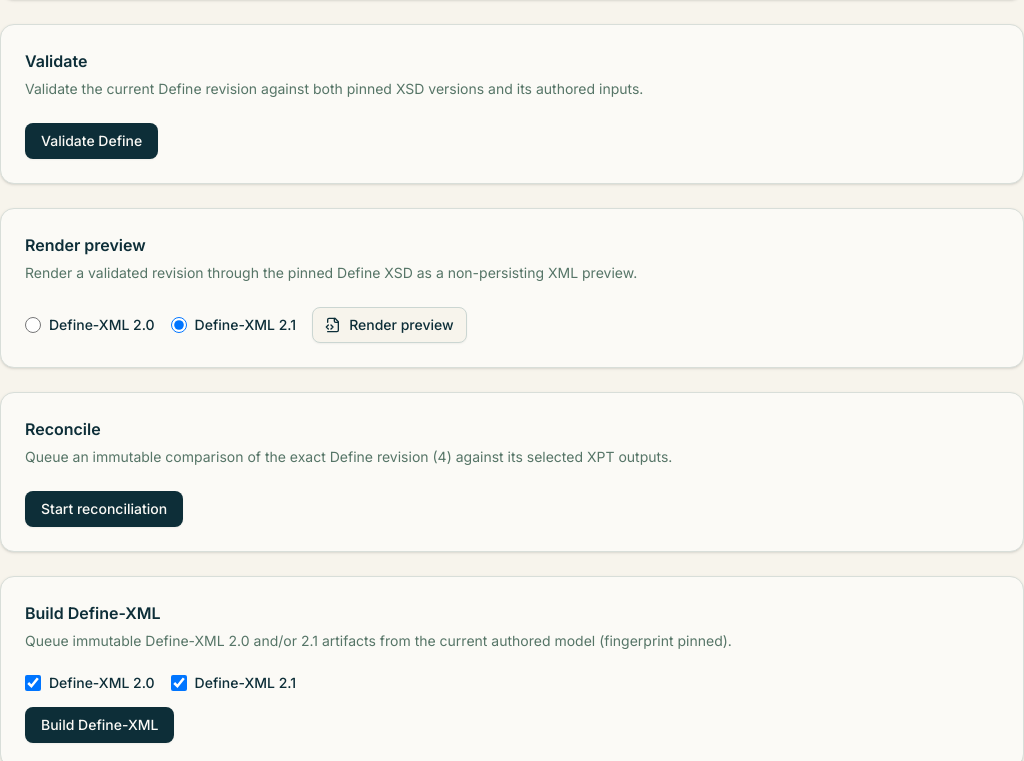
DefinePanel reconcile (Req 18.6, 18.8) › trips the 300s client timeout naming the run with no artifact (R18.8)
The width and height of the screenshot is (1024, 761).
(page scrolled)
Click the button "Start reconciliation" at (104, 509), box 25,491 -> 183,527
Wait 300000 ms
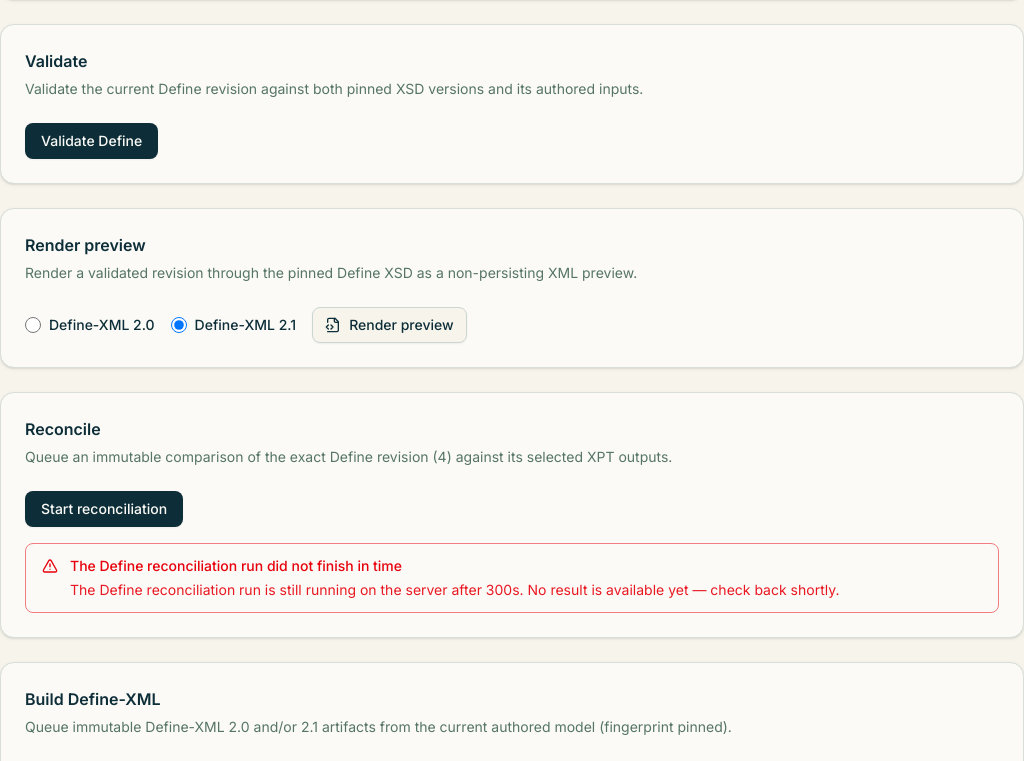
Result: the text "The Define reconciliation run did not finish in time" is shown at 70,557 -> 402,574
